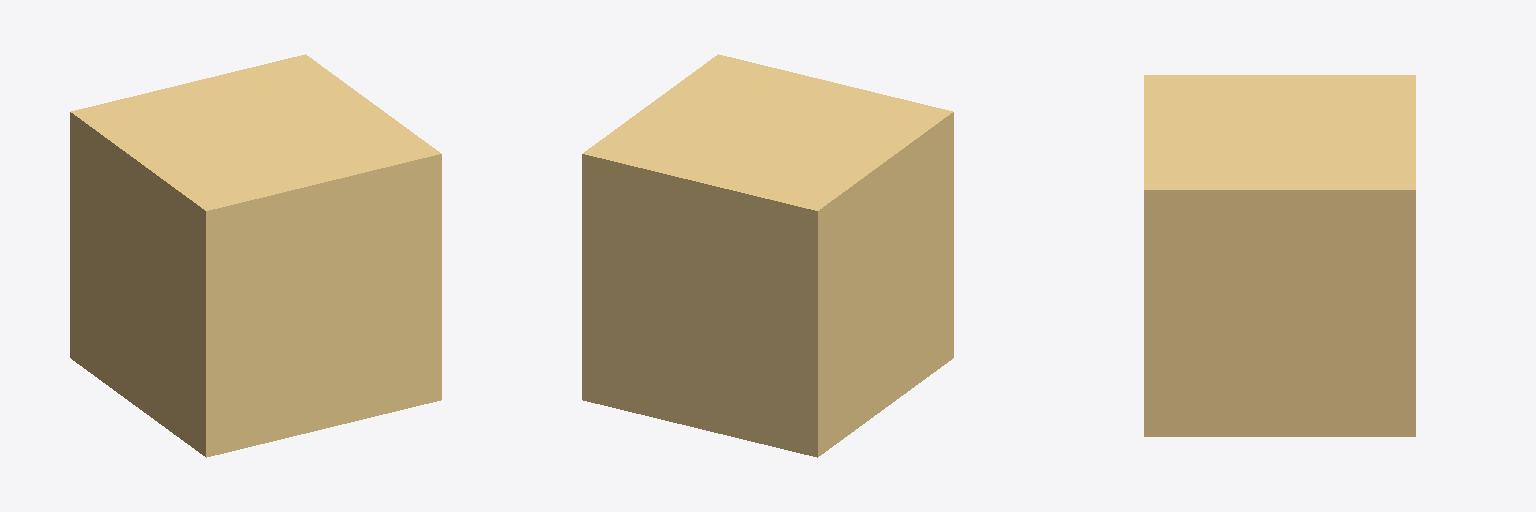
The picture shows the model from 3 angles: view 1: azimuth 30°, elevation 25°; view 2: azimuth 150°, elevation 25°; view 3: azimuth 270°, elevation 25°; orthographic projection.
Parts seen in each view (by area): view 1: object 1; view 2: object 1; view 3: object 1.
Boxes of the visible parts, <box> form: object 1: <box>70,54,441,457</box>; object 1: <box>582,54,953,457</box>; object 1: <box>1144,75,1415,436</box>.
Bounding box in the file's own units: 0.1 × 0.1 × 0.1.
1 materials, 1 textured.